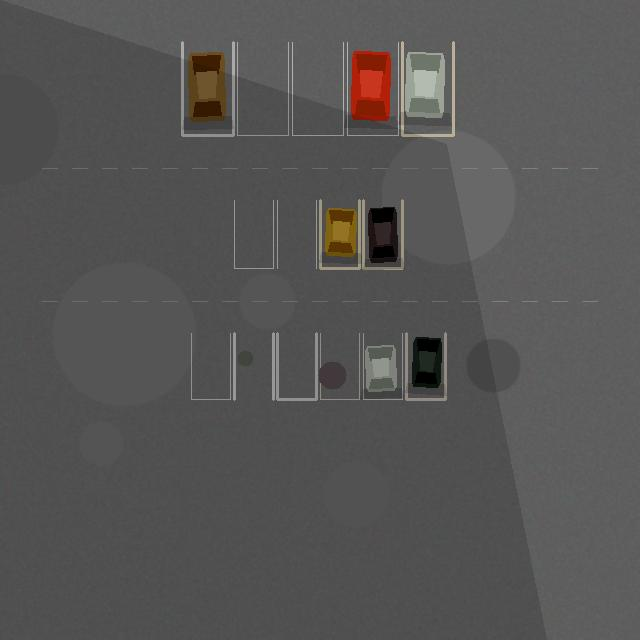space-empty: (237, 42, 288, 135), (292, 42, 343, 135), (234, 200, 273, 268), (277, 200, 316, 268), (191, 333, 230, 399), (234, 333, 273, 399), (277, 333, 316, 399), (320, 333, 359, 399)
space-occupied: (182, 42, 233, 135), (347, 42, 398, 135), (402, 42, 453, 135), (320, 200, 359, 268), (363, 200, 402, 268), (363, 333, 402, 399), (406, 333, 445, 399)
